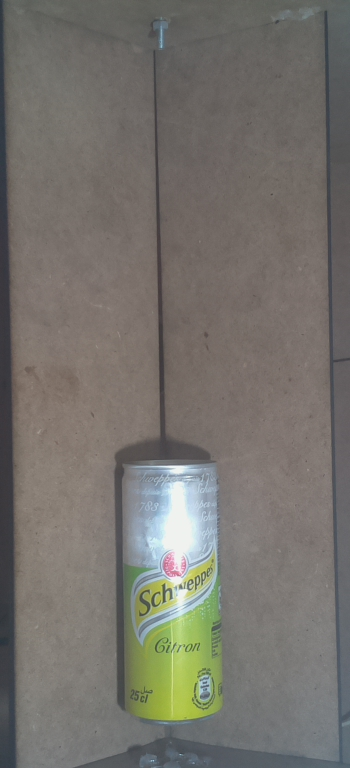Canette: (112, 451, 233, 737)
